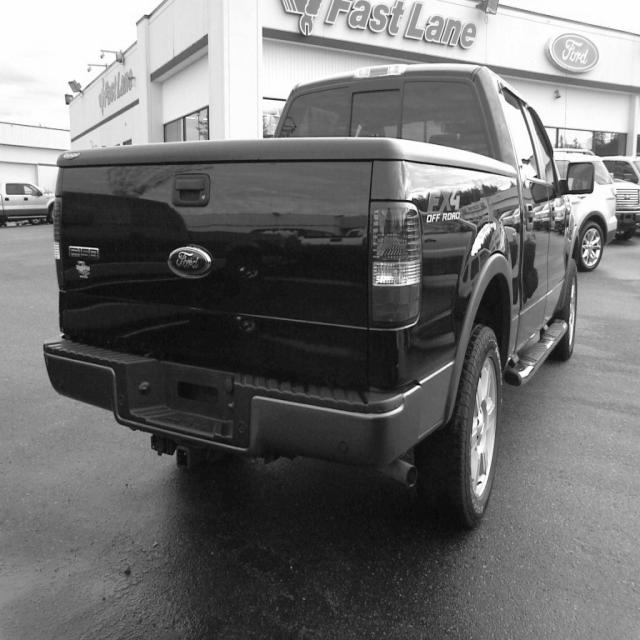car: (43, 61, 579, 528)
